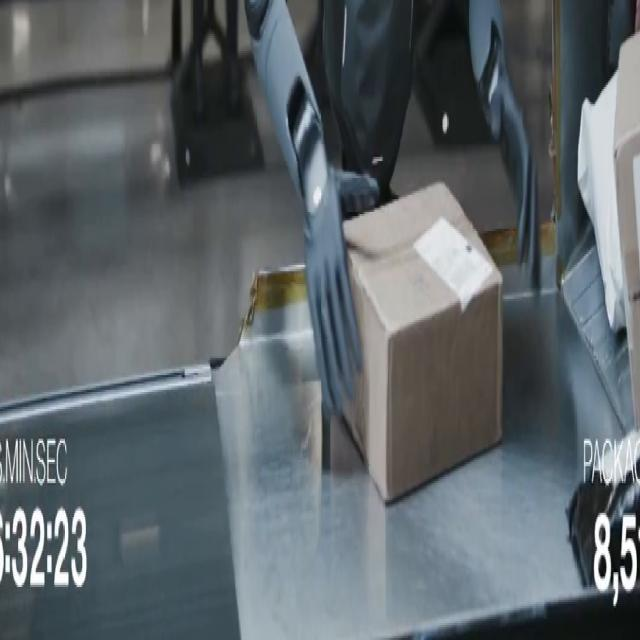package: (344, 185, 502, 502), (578, 73, 625, 332), (567, 431, 639, 587), (614, 34, 639, 423)
